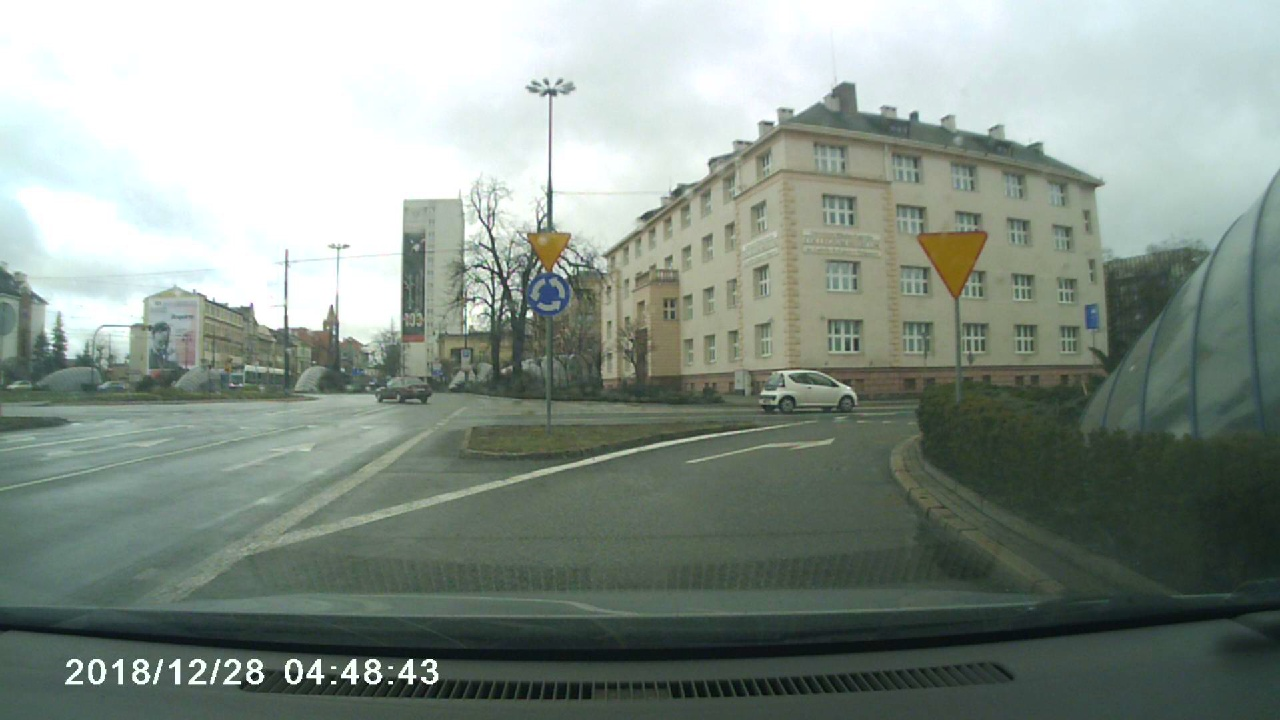A7: (915, 228, 994, 298), (526, 227, 576, 272)
C12: (524, 270, 576, 314)
